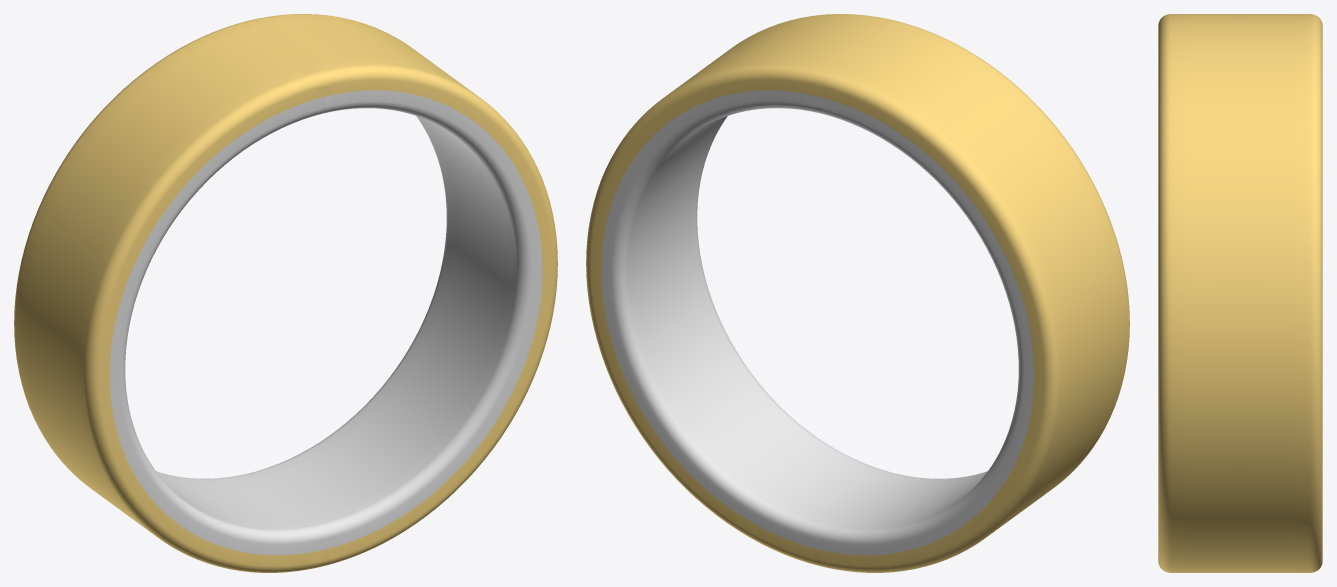
The model's file is BrendanHIS7mmYGPT.glb.
3 renders of one model, left to right at view 1: azimuth 30°, elevation 25°; view 2: azimuth 150°, elevation 25°; view 3: azimuth 270°, elevation 25°, orthographic. The views are drawn at different scales.
Parts seen in each view (by area): view 1: V2 Brendan HIS PT for 3d model, V2 Brendan HIS YG for 3d model; view 2: V2 Brendan HIS PT for 3d model, V2 Brendan HIS YG for 3d model; view 3: V2 Brendan HIS PT for 3d model.
Boxes of the visible parts, x1,y1,x2,y2 form: V2 Brendan HIS PT for 3d model: (14,14,557,572); V2 Brendan HIS YG for 3d model: (109,90,542,555); V2 Brendan HIS PT for 3d model: (586,14,1129,572); V2 Brendan HIS YG for 3d model: (601,90,1034,555); V2 Brendan HIS PT for 3d model: (1158,14,1322,572).
Size of the model in its own units: 23.8 by 23.8 by 7.
